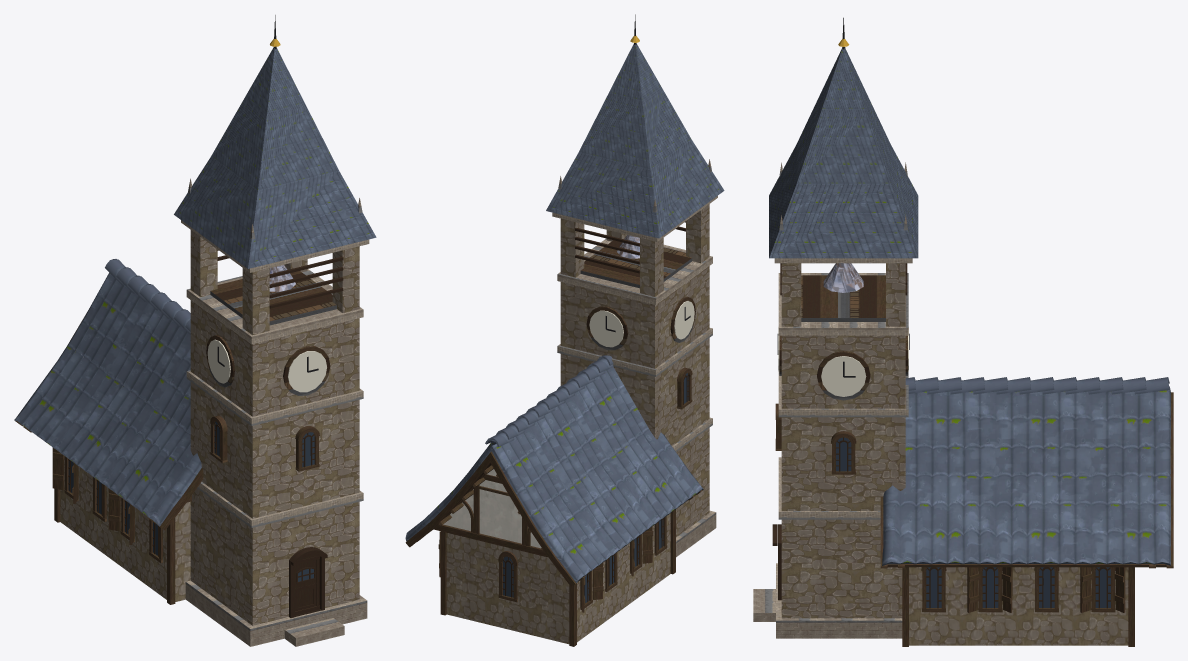
The model's file is clock_tower.glb.
3 views of the same model, side by side, from view 1: azimuth 30°, elevation 25°; view 2: azimuth 150°, elevation 25°; view 3: azimuth 270°, elevation 25° (orthographic). The views are drawn at different scales.
Visible parts, largest first — view 1: Tower.002, Roof_RoundTiles_6x8.081, Spire.043, TowerPlinth.001, Course.005, BelfryFloor.032, Course.004, Pier.028, Course.003, Pier.030, Pier.029, Door_1_Round.007 (+17 smaller); view 2: Roof_RoundTiles_6x8.081, Spire.043, Tower.002, Roof_Front_Brick6.082, Wall_UnevenBrick_Straight.070, Wall_UnevenBrick_Straight.073, Wall_UnevenBrick_Window_Thin_Round.071, Course.005, BelfryFloor.032, Pier.029, Course.004, Pier.031 (+16 smaller); view 3: Roof_RoundTiles_6x8.081, Tower.002, Spire.043, Wall_UnevenBrick_Window_Thin_Round.065, BelfryFloor.032, Wall_UnevenBrick_Window_Thin_Round.060, TowerPlinth.001, Wall_UnevenBrick_Window_Thin_Round.062, Wall_UnevenBrick_Window_Thin_Round.067, Course.005, Course.004, ClockFace.017 (+14 smaller).
Boxes of the visible parts, x1,y1,x2,y2 form: Tower.002: [190, 300, 359, 625]; Roof_RoundTiles_6x8.081: [14, 259, 203, 530]; Spire.043: [174, 48, 376, 268]; TowerPlinth.001: [185, 580, 367, 646]; Course.005: [186, 269, 363, 344]; BelfryFloor.032: [210, 269, 336, 325]; Course.004: [186, 370, 363, 425]; Pier.028: [242, 268, 269, 335]; Course.003: [197, 481, 363, 527]; Pier.030: [332, 246, 359, 312]; Pier.029: [190, 230, 217, 296]; Door_1_Round.007: [294, 555, 319, 615]; Roof_RoundTiles_6x8.081: [405, 355, 703, 586]; Spire.043: [546, 44, 724, 238]; Tower.002: [560, 266, 709, 537]; Roof_Front_Brick6.082: [433, 465, 548, 557]; Wall_UnevenBrick_Straight.070: [446, 533, 487, 624]; Wall_UnevenBrick_Straight.073: [530, 553, 569, 644]; Wall_UnevenBrick_Window_Thin_Round.071: [487, 542, 530, 634]; Course.005: [557, 238, 712, 304]; BelfryFloor.032: [580, 238, 692, 288]; Pier.029: [640, 238, 663, 296]; Course.004: [557, 328, 712, 376]; Pier.031: [560, 218, 584, 277]; Roof_RoundTiles_6x8.081: [880, 377, 1173, 568]; Tower.002: [781, 335, 905, 618]; Spire.043: [769, 48, 918, 258]; Wall_UnevenBrick_Window_Thin_Round.065: [1018, 567, 1074, 645]; BelfryFloor.032: [801, 275, 885, 321]; Wall_UnevenBrick_Window_Thin_Round.060: [909, 567, 962, 645]; TowerPlinth.001: [776, 563, 902, 638]; Wall_UnevenBrick_Window_Thin_Round.062: [962, 567, 1018, 645]; Wall_UnevenBrick_Window_Thin_Round.067: [1075, 567, 1128, 645]; Course.005: [778, 273, 908, 335]; Course.004: [778, 371, 908, 417]; ClockFace.017: [821, 356, 866, 396].
Bounding box in the file's own units: 8.25 × 23.3 × 14.89.
10 materials, 6 textured.
